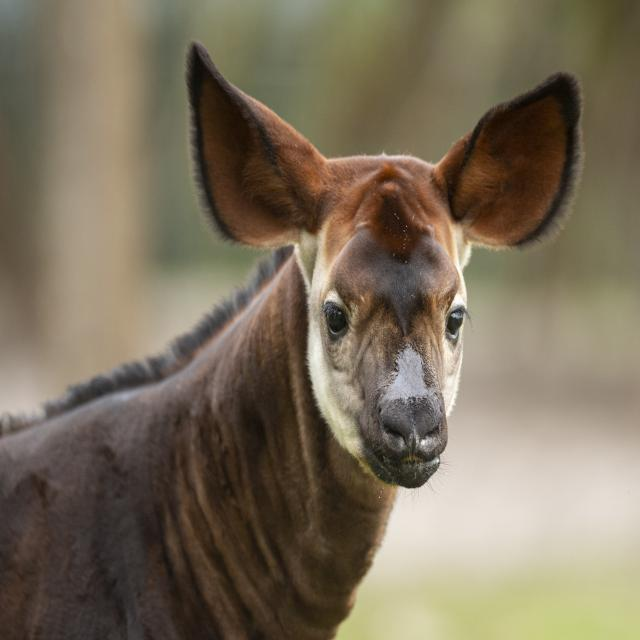Okapi: (0, 44, 586, 640)
